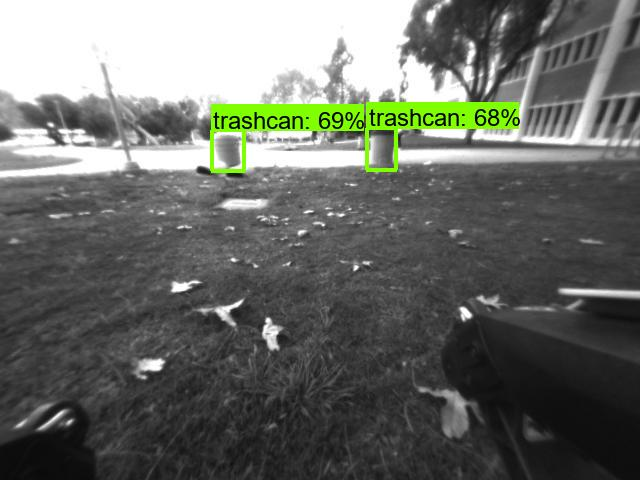trashcan: (208, 131, 249, 167), (370, 127, 395, 173)
